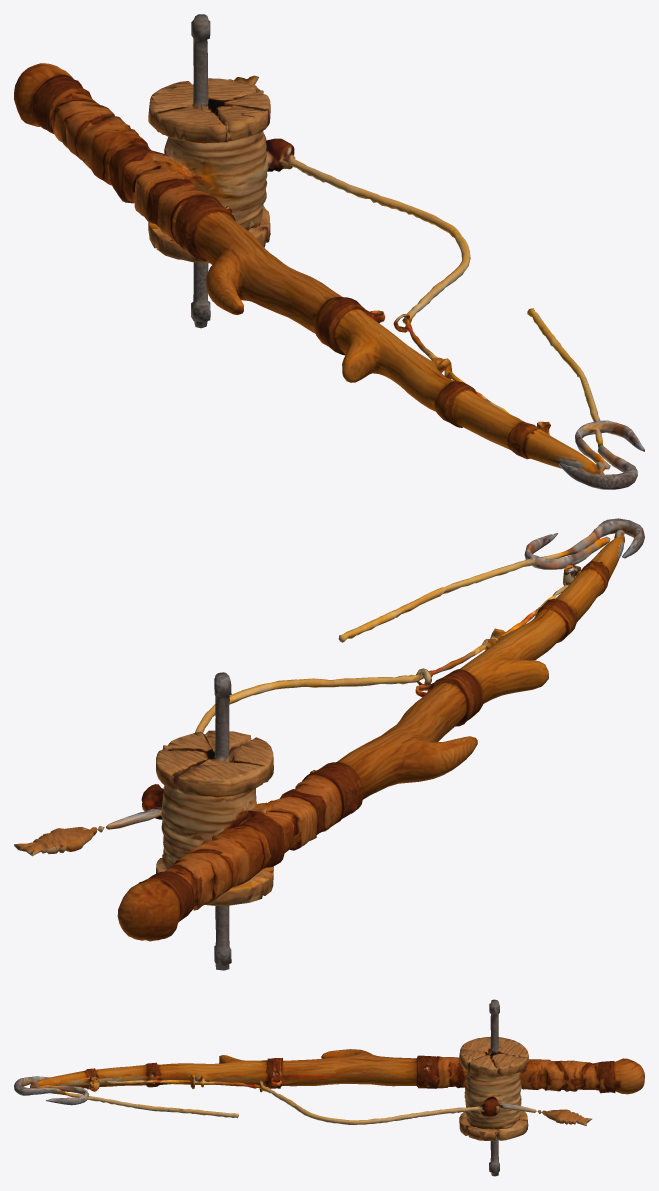
File: fishrod.glb
3 renders of one model, top to bottom at view 1: azimuth 30°, elevation 25°; view 2: azimuth 150°, elevation 25°; view 3: azimuth 270°, elevation 25°, orthographic. The views are drawn at different scales.
Visible parts, largest first — view 1: tripo_node_dd1d08f9; view 2: tripo_node_dd1d08f9; view 3: tripo_node_dd1d08f9.
Part boxes in pixels (x1,y1,x2,y2): tripo_node_dd1d08f9: [14, 14, 644, 489]; tripo_node_dd1d08f9: [14, 518, 644, 970]; tripo_node_dd1d08f9: [14, 999, 644, 1176].
Size of the model in its own units: 0.2945 by 0.3366 by 1.1.
Materials: 1 (1 with a texture image).
